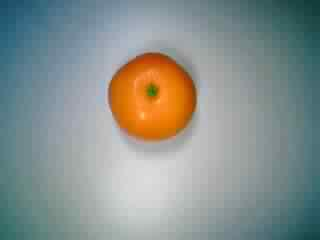orange: (103, 45, 198, 141)
